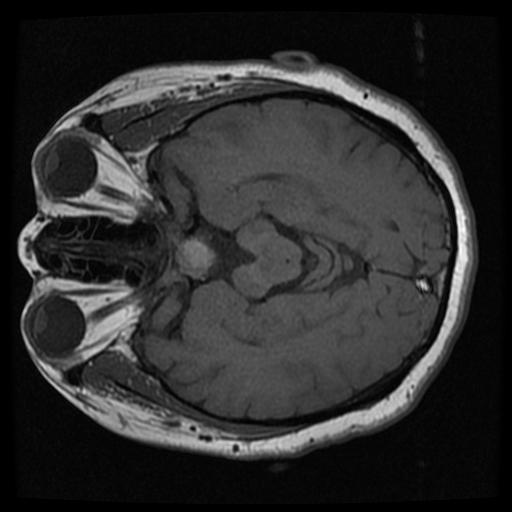pituitary tumour: (173, 239, 214, 278)
